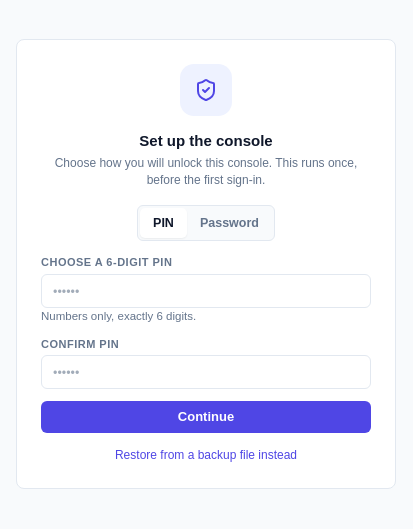
Test: Setup — password mode validation › rejects a password shorter than 8 characters or missing a letter/digit
Click the radio button labelled "Password". click: (229, 223)
box: [200,216,259,230]
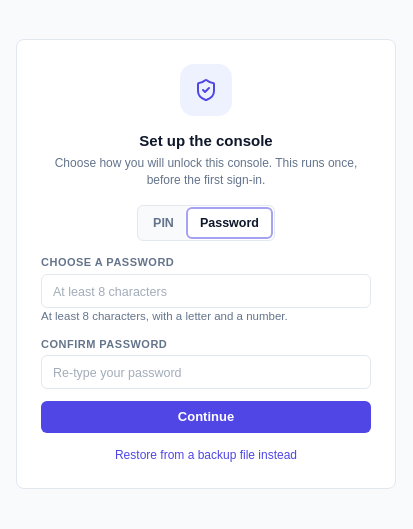
Type "short1" into the password field labelled "Choose a password". click: (206, 291)
box: [41,274,371,308]
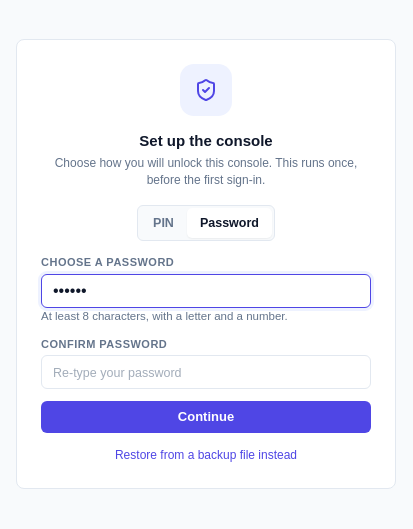
Type "short1" into the password field labelled "Confirm password". click: (206, 372)
box: [41,355,371,389]
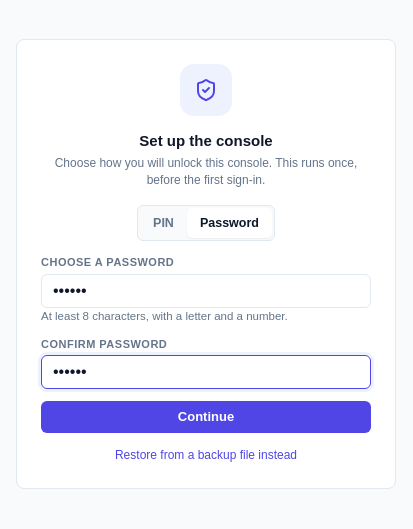
Click the button "Continue". click: (206, 417)
box: [41,401,371,433]
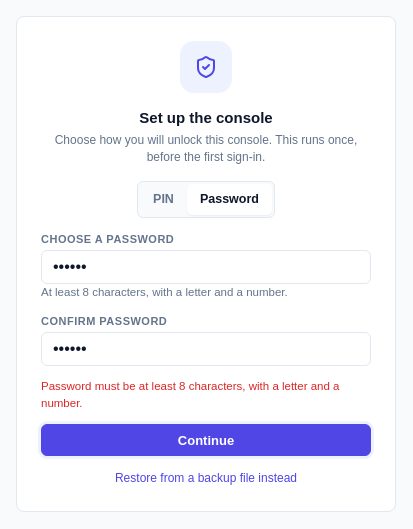
expect the text "Password must be at least 8 characters, with a letter and a number." is shown: met, box [41,378,371,412]
